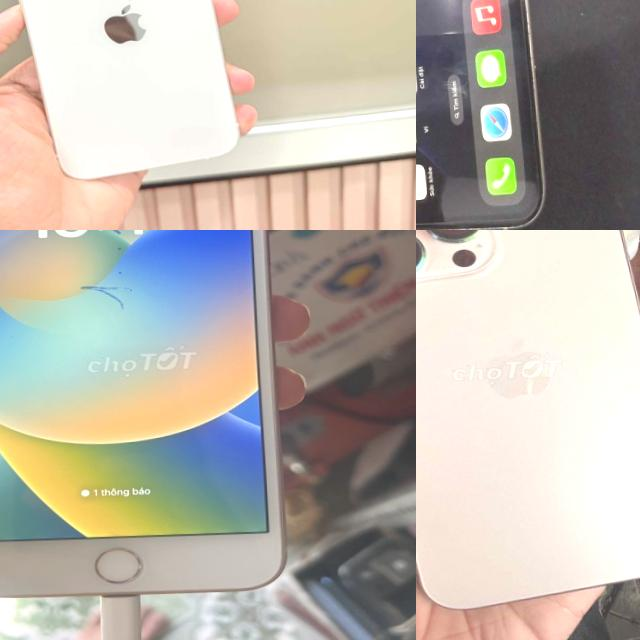gen_11: (416, 0, 546, 230)
gen_12_13: (0, 0, 245, 185)
gen_16: (416, 230, 640, 607)
gen_7_8: (0, 230, 311, 596)
